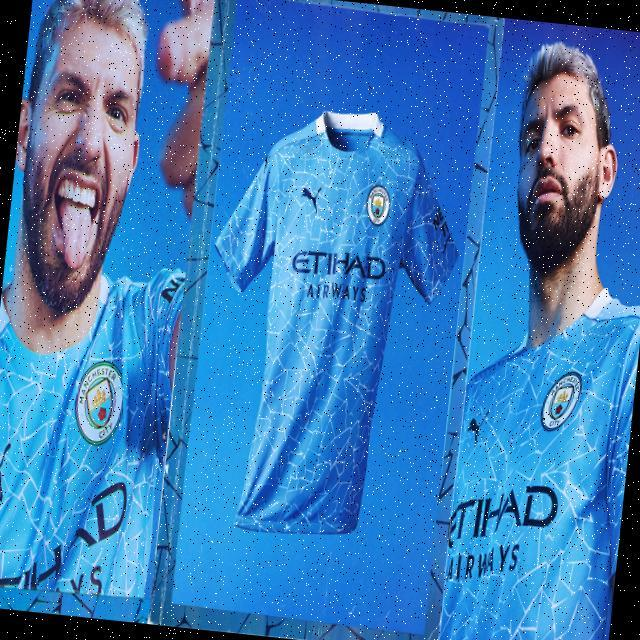Etihad Airways: (443, 475, 561, 591), (288, 247, 386, 304)
Puma: (466, 407, 490, 449), (300, 185, 321, 213), (0, 440, 9, 502)
